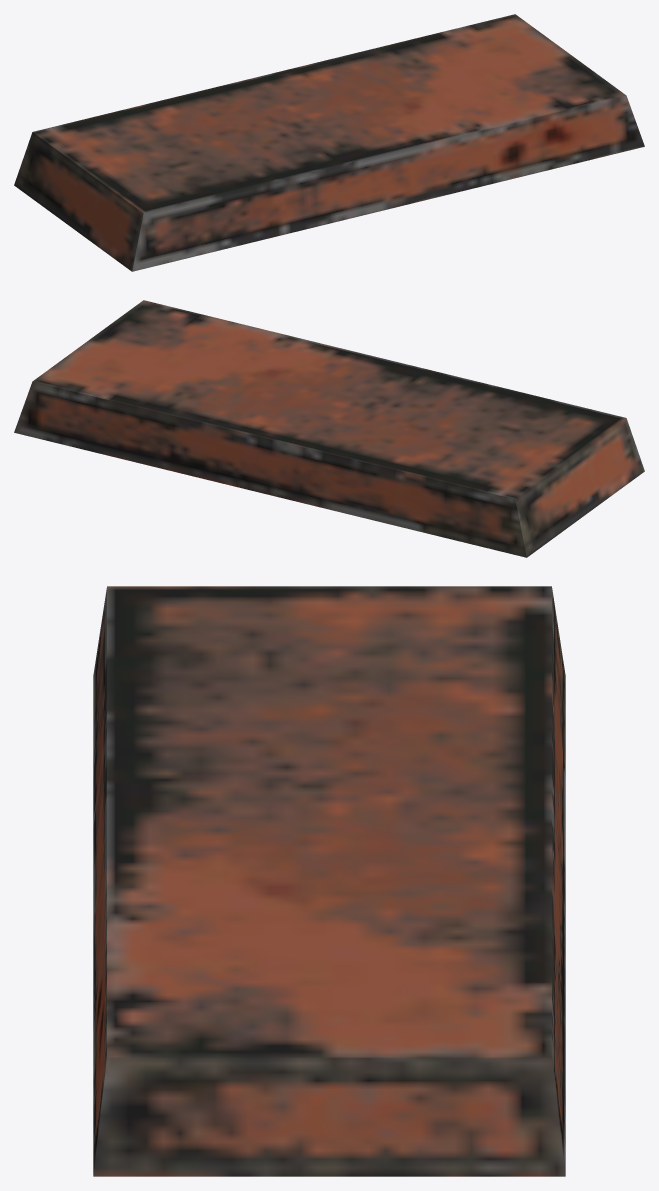
File: plane_wreckage_radio_button.dae
The picture shows the model from 3 angles, top to bottom: view 1: azimuth 30°, elevation 25°; view 2: azimuth 150°, elevation 25°; view 3: azimuth 270°, elevation 25°; orthographic projection. The views are drawn at different scales.
Parts seen in each view (by area): view 1: plane_wreckage_radio_button; view 2: plane_wreckage_radio_button; view 3: plane_wreckage_radio_button.
Boxes of the visible parts, left/top/right/bottom form: plane_wreckage_radio_button: left=14, top=14, right=644, bottom=271; plane_wreckage_radio_button: left=14, top=300, right=644, bottom=557; plane_wreckage_radio_button: left=93, top=586, right=565, bottom=1176.
Size of the model in its own units: 10.36 by 1.01 by 4.13.
